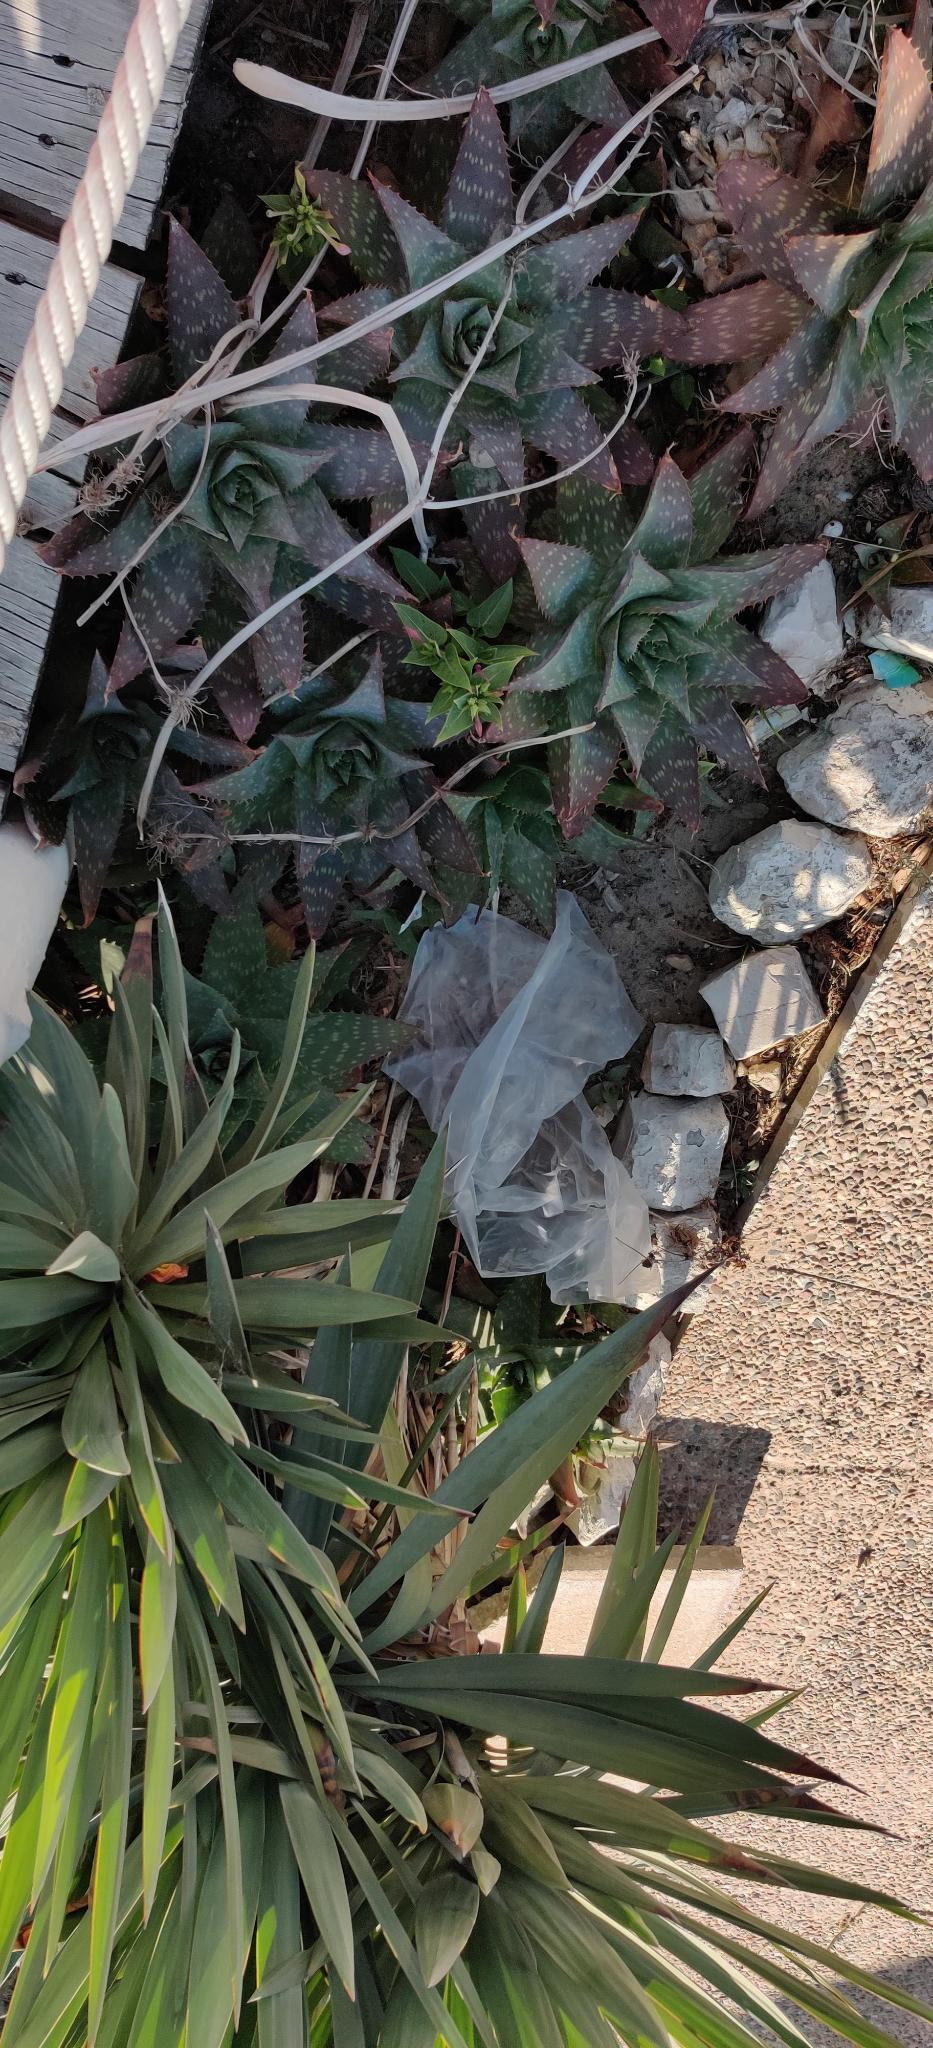Plastic: (372, 876, 670, 1313)
